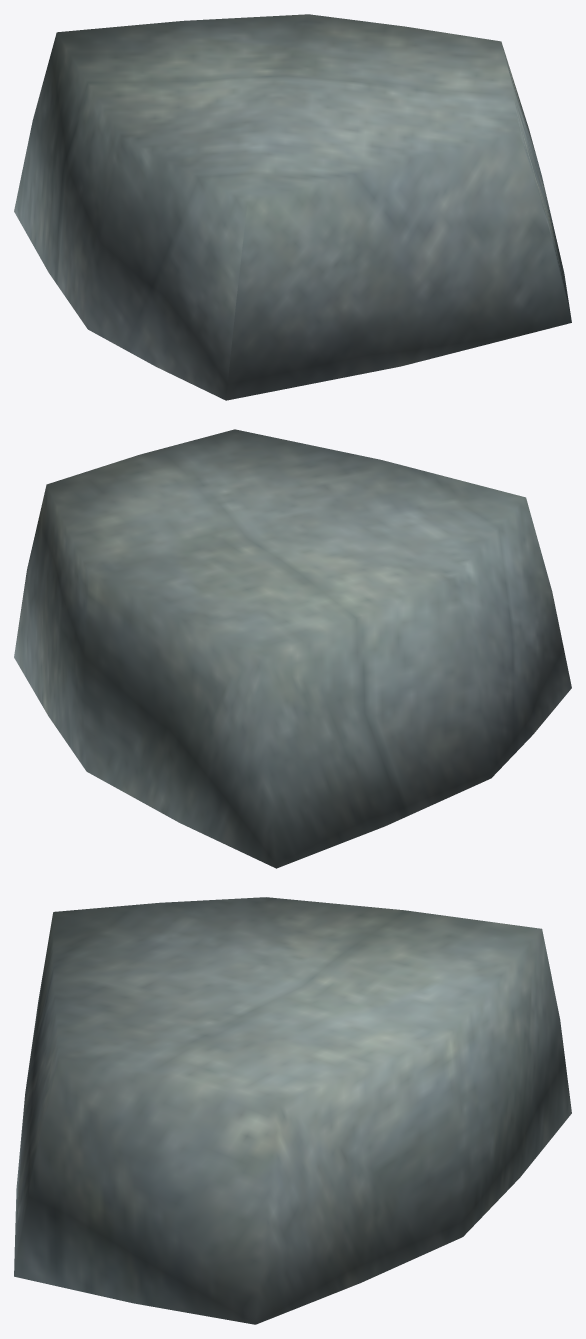
The model's file is rocks_013.fbx.
The picture shows the model from 3 angles, top to bottom: view 1: azimuth 30°, elevation 25°; view 2: azimuth 150°, elevation 25°; view 3: azimuth 270°, elevation 25°; orthographic projection. The views are drawn at different scales.
Visible parts, largest first — view 1: rocks.013; view 2: rocks.013; view 3: rocks.013.
Part boxes in pixels (<box>): rocks.013: <box>14,14,571,400</box>; rocks.013: <box>14,429,571,868</box>; rocks.013: <box>14,897,571,1324</box>.
Bounding box in the file's own units: 149 × 62.83 × 143.
